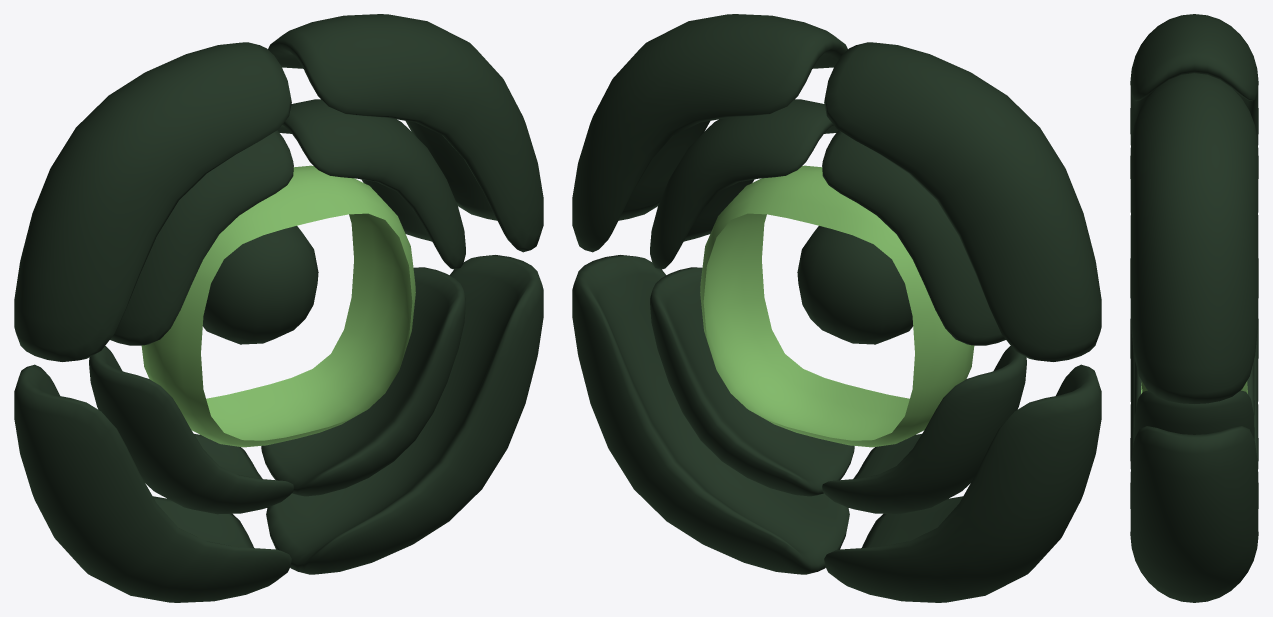
File: RANGE.fbx
The picture shows the model from 3 angles, left to right: view 1: azimuth 30°, elevation 25°; view 2: azimuth 150°, elevation 25°; view 3: azimuth 270°, elevation 25°; orthographic projection. The views are drawn at different scales.
Parts seen in each view (by area): view 1: Cube.003, Cube.002, Cube, Cube.001; view 2: Cube.003, Cube.002, Cube, Cube.001; view 3: Cube.003, Cube.002.
Boxes of the visible parts, box(x1,y1,x2,y2) form: Cube.003: box(14, 14, 543, 602); Cube.002: box(89, 99, 465, 514); Cube: box(141, 165, 415, 447); Cube.001: box(202, 226, 318, 344); Cube.003: box(572, 14, 1101, 602); Cube.002: box(650, 99, 1026, 514); Cube: box(700, 165, 974, 447); Cube.001: box(797, 226, 913, 344); Cube.003: box(1130, 14, 1258, 602); Cube.002: box(1134, 359, 1254, 439).
Bounding box in the file's own units: 322 × 324 × 75.75.
